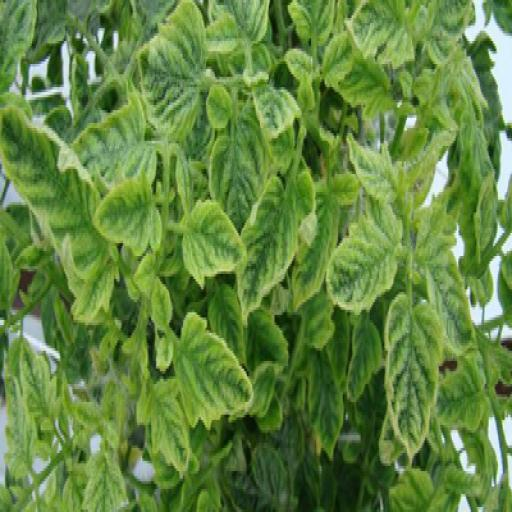Yellow Leaf Curl Virus: (0, 104, 124, 323), (234, 161, 315, 325), (324, 190, 410, 318), (383, 292, 446, 466), (169, 312, 256, 435), (415, 189, 476, 354), (138, 0, 212, 133), (180, 194, 249, 294), (92, 172, 163, 258), (141, 358, 189, 468), (342, 122, 398, 204)
